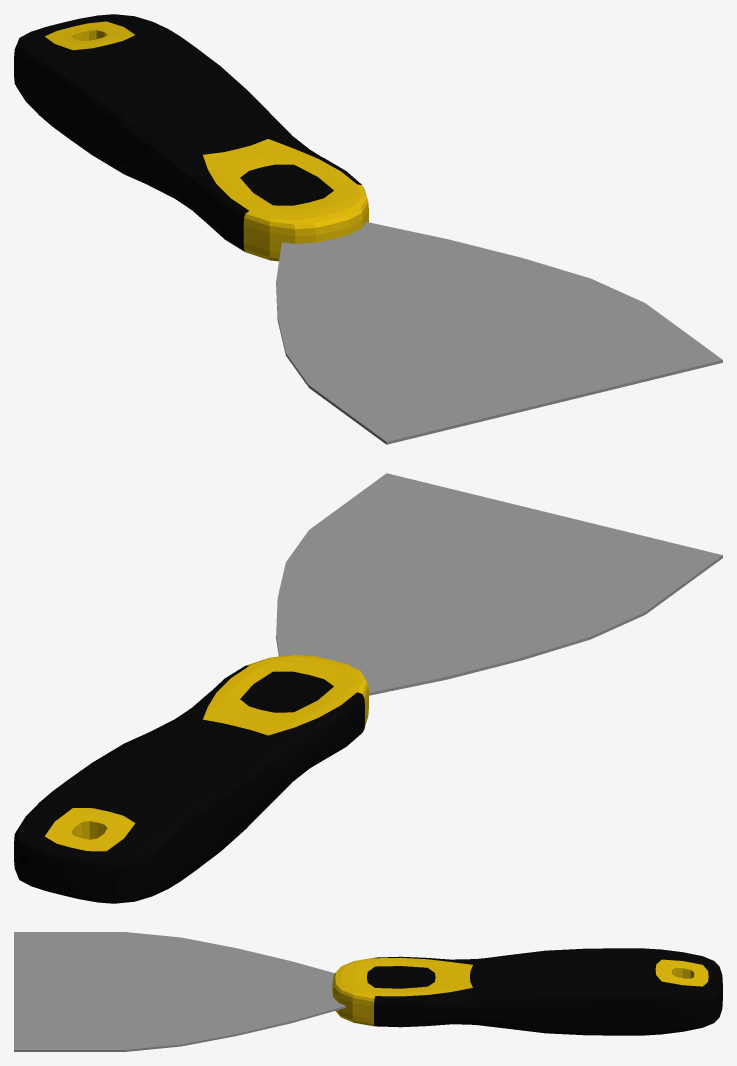
File: Spatule.fbx
3 renders of one model, top to bottom at view 1: azimuth 30°, elevation 25°; view 2: azimuth 150°, elevation 25°; view 3: azimuth 270°, elevation 25°, orthographic. The views are drawn at different scales.
Visible parts, largest first — view 1: Spatula; view 2: Spatula; view 3: Spatula.
Boxes of the visible parts, bbox=[...] form: Spatula: bbox=[14, 14, 722, 444]; Spatula: bbox=[14, 473, 722, 903]; Spatula: bbox=[14, 932, 722, 1051].
Size of the model in its own units: 25 by 4.45 by 63.5.
